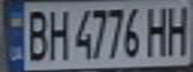4: (72, 4, 93, 61)
6: (121, 3, 145, 59)
7: (106, 4, 127, 60), (90, 4, 109, 60)
B: (21, 6, 51, 62)
H: (163, 1, 193, 56), (142, 2, 172, 56), (45, 6, 72, 61)
